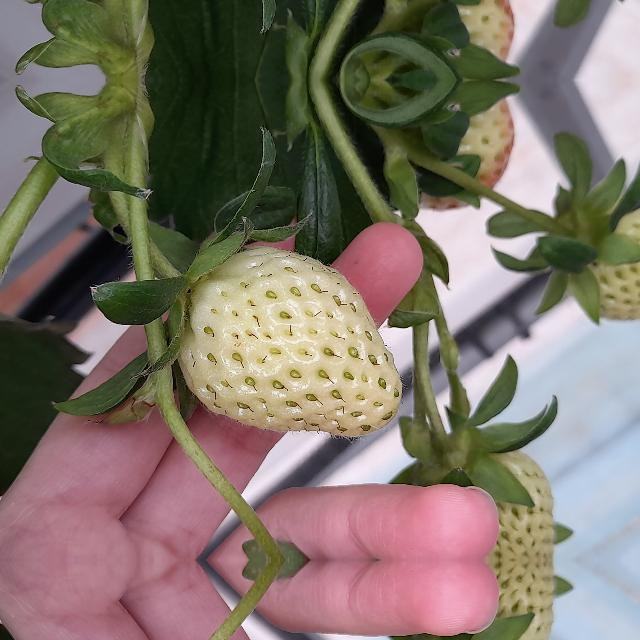Health_25: (176, 246, 402, 437), (420, 444, 554, 560), (419, 560, 554, 640), (550, 203, 640, 321)
